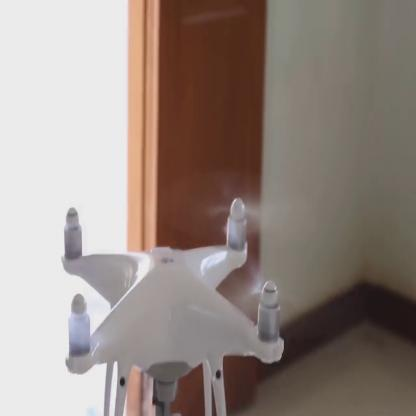drone: (50, 187, 296, 386)
